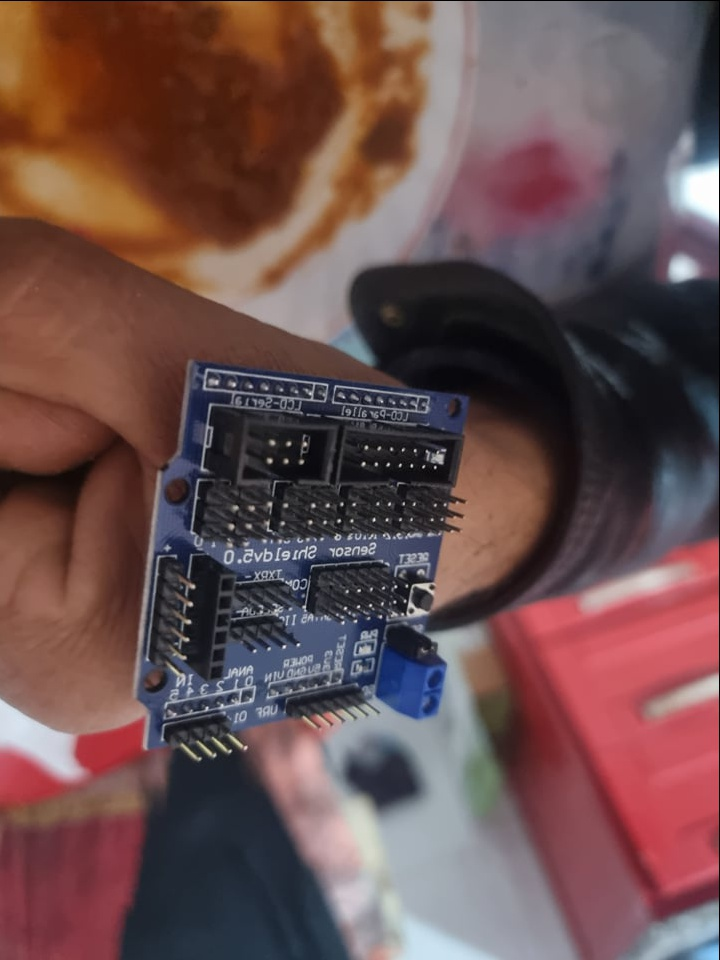5V EXPANSION: (130, 352, 474, 759)
